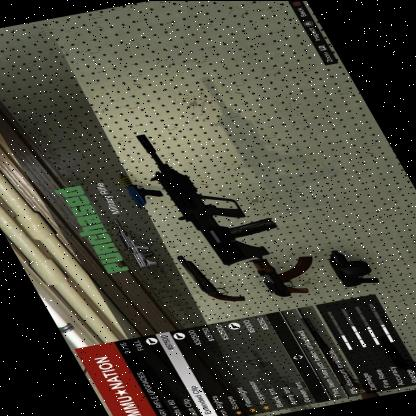rifle: (130, 120, 298, 272)
